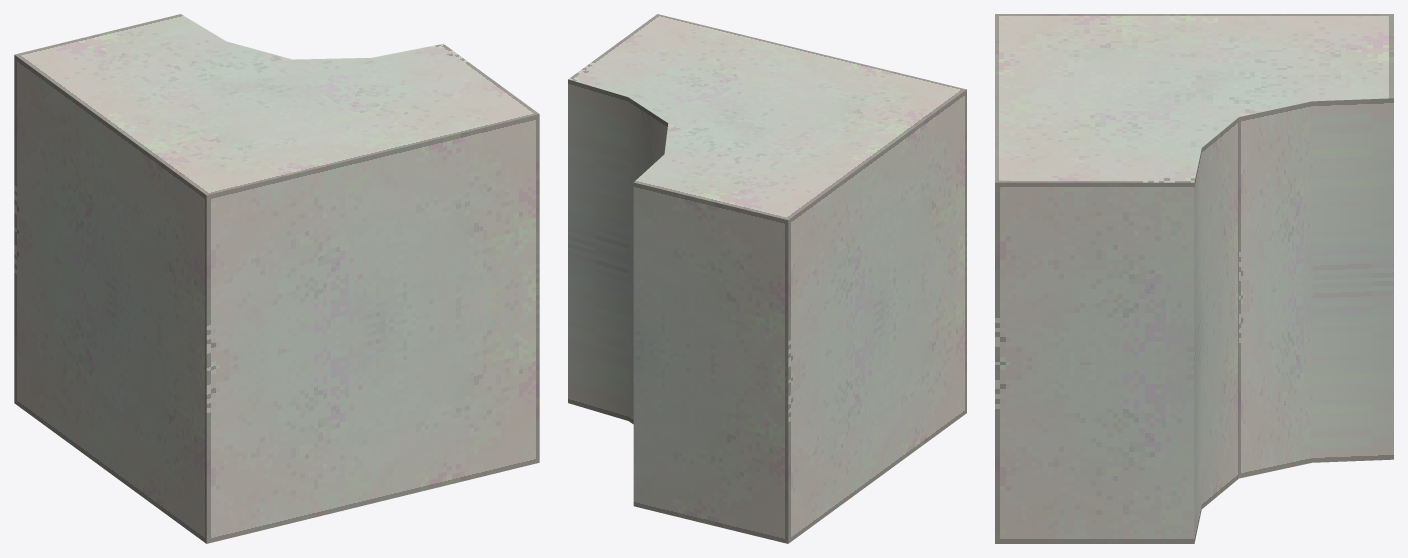
The model's file is Concrete3.glb.
3 views of the same model, side by side, from view 1: azimuth 30°, elevation 25°; view 2: azimuth 150°, elevation 25°; view 3: azimuth 270°, elevation 25° (orthographic). The views are drawn at different scales.
Parts seen in each view (by area): view 1: Cube.031; view 2: Cube.031; view 3: Cube.031.
Boxes of the visible parts, x1,y1,x2,y2 form: Cube.031: [14, 14, 539, 543]; Cube.031: [568, 14, 966, 543]; Cube.031: [995, 14, 1393, 543].
Bounding box in the file's own units: 8 × 8 × 8.
1 material, 1 textured.
